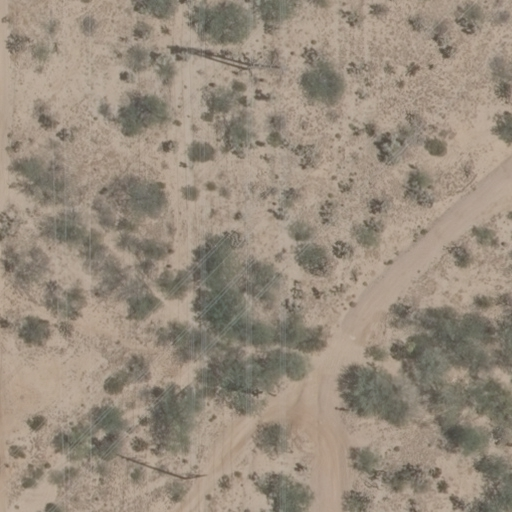DT: (242, 52, 269, 76), (173, 469, 208, 487)
